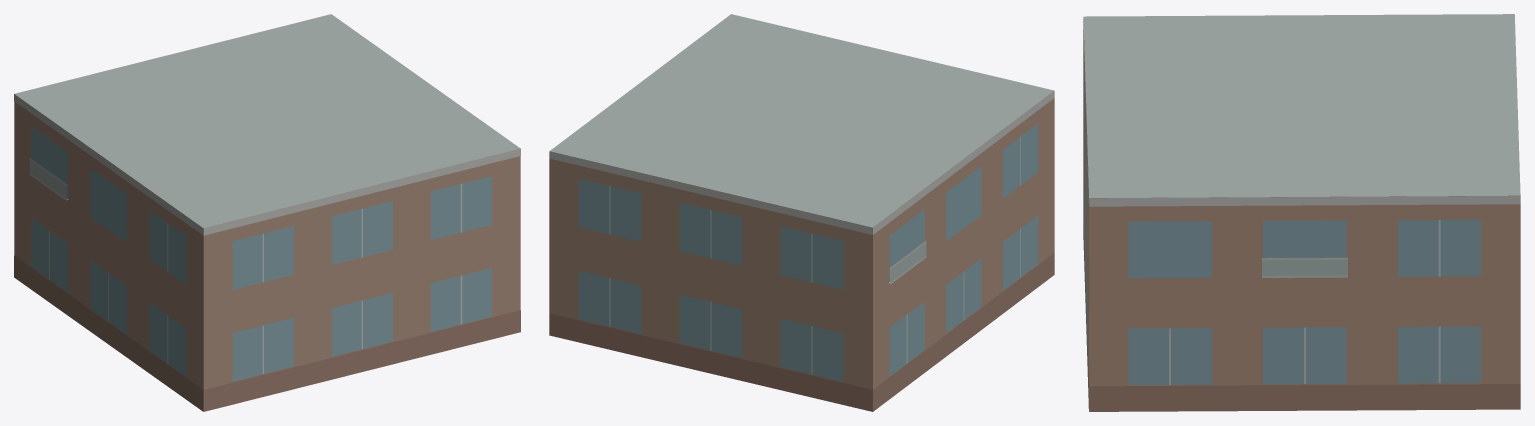
Rendered from survey-upis-32713209.glb.
3 renders of one model, left to right at view 1: azimuth 30°, elevation 25°; view 2: azimuth 150°, elevation 25°; view 3: azimuth 270°, elevation 25°, orthographic. The views are drawn at different scales.
Parts seen in each view (by area): view 1: survey-upis-32713209.tmp; view 2: survey-upis-32713209.tmp; view 3: survey-upis-32713209.tmp.
Part boxes in pixels (bbox=[...]): survey-upis-32713209.tmp: bbox=[14, 14, 520, 411]; survey-upis-32713209.tmp: bbox=[549, 14, 1054, 411]; survey-upis-32713209.tmp: bbox=[1083, 14, 1520, 411].
Bounding box in the file's own units: 11.3 × 6.1 × 11.32.
